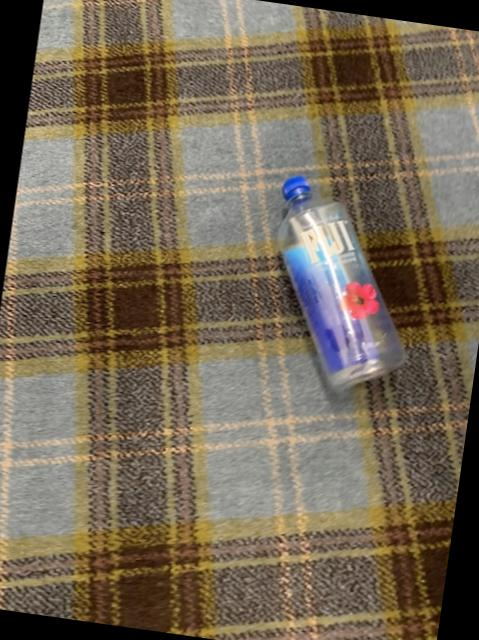plastic: (276, 174, 403, 387)
